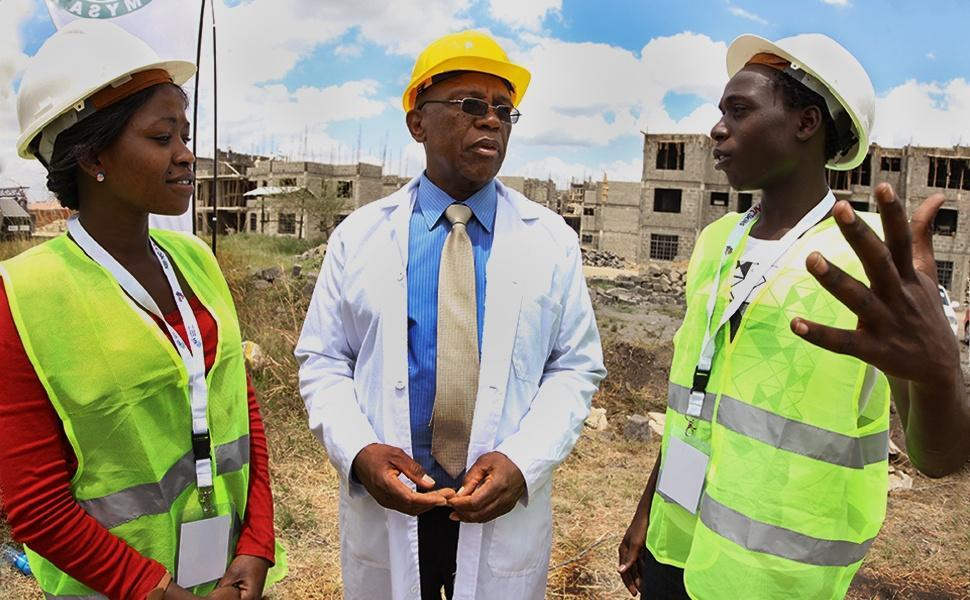helmet: (13, 12, 195, 166), (722, 31, 891, 181), (393, 35, 540, 135)
no-vest: (351, 188, 562, 535)
person: (293, 31, 617, 600), (655, 29, 953, 600), (1, 11, 281, 600)
vest: (25, 229, 257, 600), (691, 227, 867, 600)
